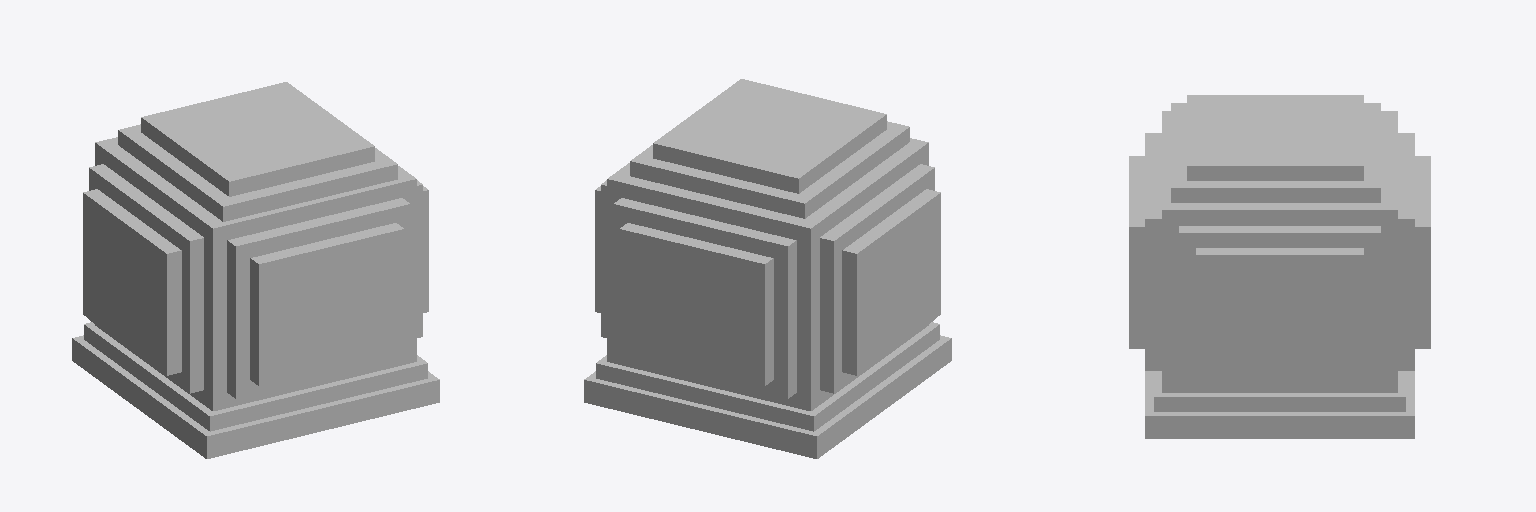
File: 692_snowglobe.obj
The picture shows the model from 3 angles: view 1: azimuth 30°, elevation 25°; view 2: azimuth 150°, elevation 25°; view 3: azimuth 270°, elevation 25°; orthographic projection.
Visible parts, largest first — view 1: glass21, glass35, glass13, Base1, Base2, glass1, glass31, glass28, glass30, glass32, glass16, glass33 (+8 smaller); view 2: glass34, glass35, glass13, Base1, Base2, glass8, glass27, glass26, glass2, glass4, glass24, glass16 (+8 smaller); view 3: glass3, glass35, Base1, Base2, glass15, glass36, glass20, glass7, glass9, glass21, glass34, glass11 (+11 smaller).
Boxes of the visible parts, x1=… form: glass21: x1=250, y1=223, x2=404, y2=385; glass35: x1=141, y1=82, x2=374, y2=196; glass13: x1=83, y1=189, x2=181, y2=375; Base1: x1=72, y1=335, x2=439, y2=458; Base2: x1=84, y1=322, x2=427, y2=431; glass1: x1=204, y1=219, x2=226, y2=410; glass31: x1=227, y1=198, x2=410, y2=261; glass28: x1=215, y1=158, x2=397, y2=221; glass30: x1=182, y1=232, x2=203, y2=393; glass32: x1=224, y1=180, x2=401, y2=239; glass16: x1=104, y1=145, x2=217, y2=236; glass33: x1=227, y1=256, x2=249, y2=383; glass34: x1=619, y1=223, x2=773, y2=385; glass35: x1=653, y1=79, x2=886, y2=193; glass13: x1=842, y1=189, x2=940, y2=375; Base1: x1=584, y1=335, x2=951, y2=458; Base2: x1=596, y1=322, x2=939, y2=431; glass8: x1=797, y1=219, x2=819, y2=410; glass27: x1=630, y1=155, x2=812, y2=218; glass26: x1=622, y1=176, x2=803, y2=239; glass2: x1=774, y1=237, x2=796, y2=398; glass4: x1=820, y1=232, x2=841, y2=393; glass24: x1=628, y1=201, x2=780, y2=257; glass16: x1=806, y1=145, x2=919, y2=236; glass3: x1=1196, y1=248, x2=1363, y2=376; glass35: x1=1187, y1=95, x2=1363, y2=180; Base1: x1=1145, y1=371, x2=1414, y2=438; Base2: x1=1154, y1=371, x2=1405, y2=411; glass15: x1=1179, y1=203, x2=1380, y2=225; glass36: x1=1187, y1=181, x2=1363, y2=202; glass20: x1=1196, y1=226, x2=1363, y2=247; glass7: x1=1162, y1=203, x2=1178, y2=392; glass9: x1=1381, y1=203, x2=1397, y2=392; glass21: x1=1129, y1=156, x2=1144, y2=348; glass34: x1=1415, y1=156, x2=1430, y2=348; glass11: x1=1179, y1=226, x2=1195, y2=384.
Size of the model in its own units: 0.45 by 0.4125 by 0.45.